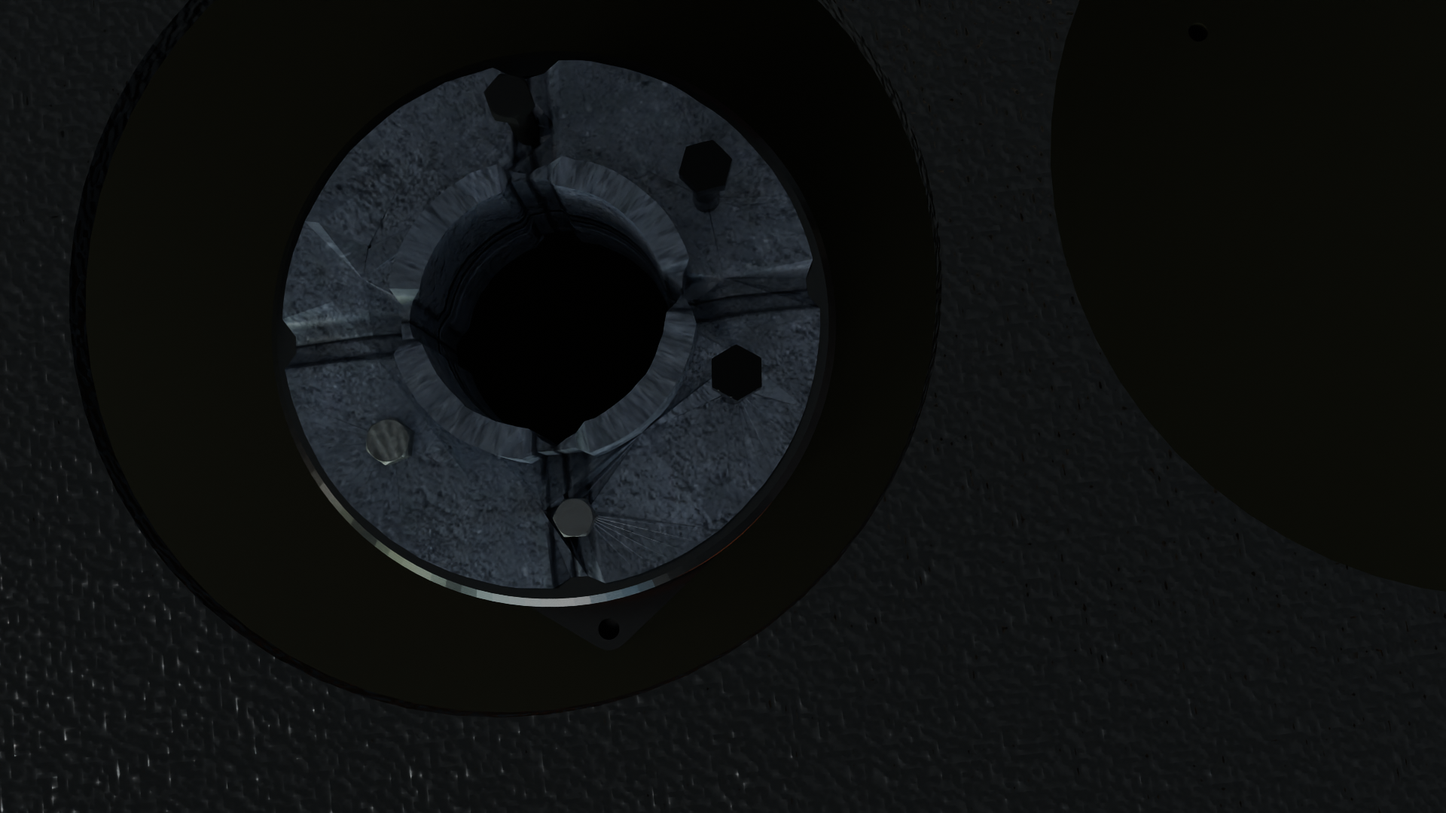bolt: (712, 344, 762, 401), (679, 140, 732, 192), (366, 417, 412, 465), (484, 74, 532, 119), (553, 498, 596, 537)
